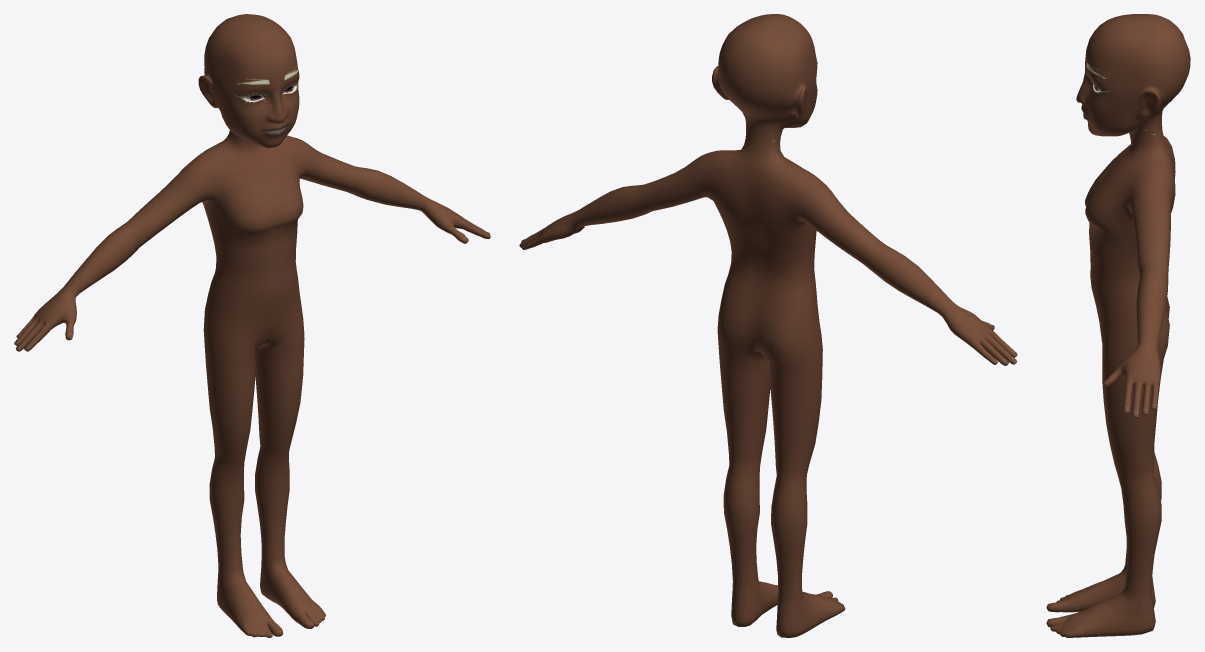
Rendered from frame_0060.glb.
The picture shows the model from 3 angles, left to right: view 1: azimuth 30°, elevation 25°; view 2: azimuth 150°, elevation 25°; view 3: azimuth 270°, elevation 25°; orthographic projection. The views are drawn at different scales.
Parts seen in each view (by area): view 1: frame_0060_head_geo; view 2: frame_0060_head_geo; view 3: frame_0060_head_geo.
Part boxes in pixels (left/top/right/bottom): frame_0060_head_geo: left=14, top=14, right=490, bottom=637; frame_0060_head_geo: left=519, top=14, right=1017, bottom=637; frame_0060_head_geo: left=1046, top=14, right=1190, bottom=637.
Size of the model in its own units: 1.28 by 1.5 by 0.3253.
3 materials, 3 textured.
